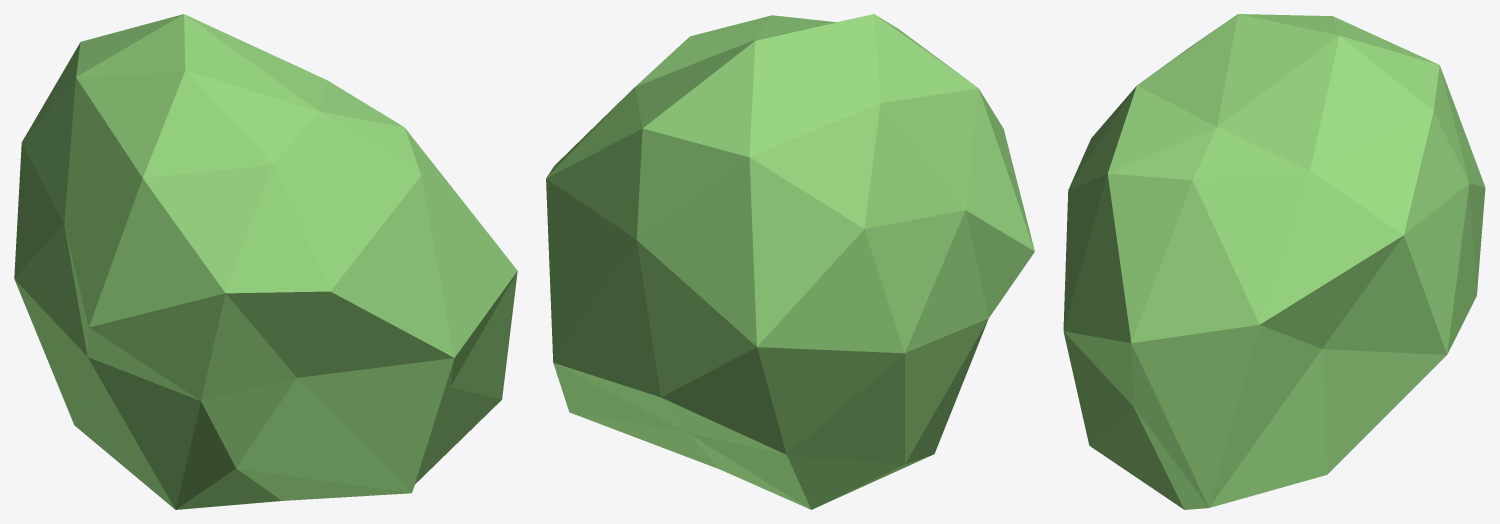
Rendered from Arbusto.fbx.
3 views of the same model, side by side, from view 1: azimuth 30°, elevation 25°; view 2: azimuth 150°, elevation 25°; view 3: azimuth 270°, elevation 25° (orthographic). The views are drawn at different scales.
Parts seen in each view (by area): view 1: Icosphere.002; view 2: Icosphere.002; view 3: Icosphere.002.
Part boxes in pixels (box(x1,y1,x2,y2)): Icosphere.002: box(14, 14, 517, 509); Icosphere.002: box(546, 14, 1034, 509); Icosphere.002: box(1063, 14, 1485, 509).
Size of the model in its own units: 87.43 by 88.03 by 82.17.
1 material, 1 textured.
